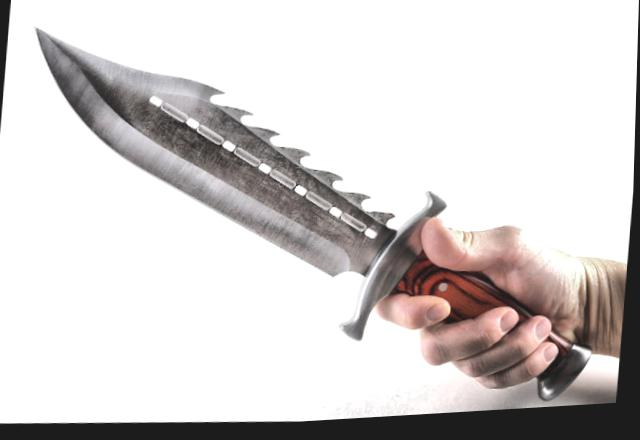knife: (0, 0, 626, 440)
